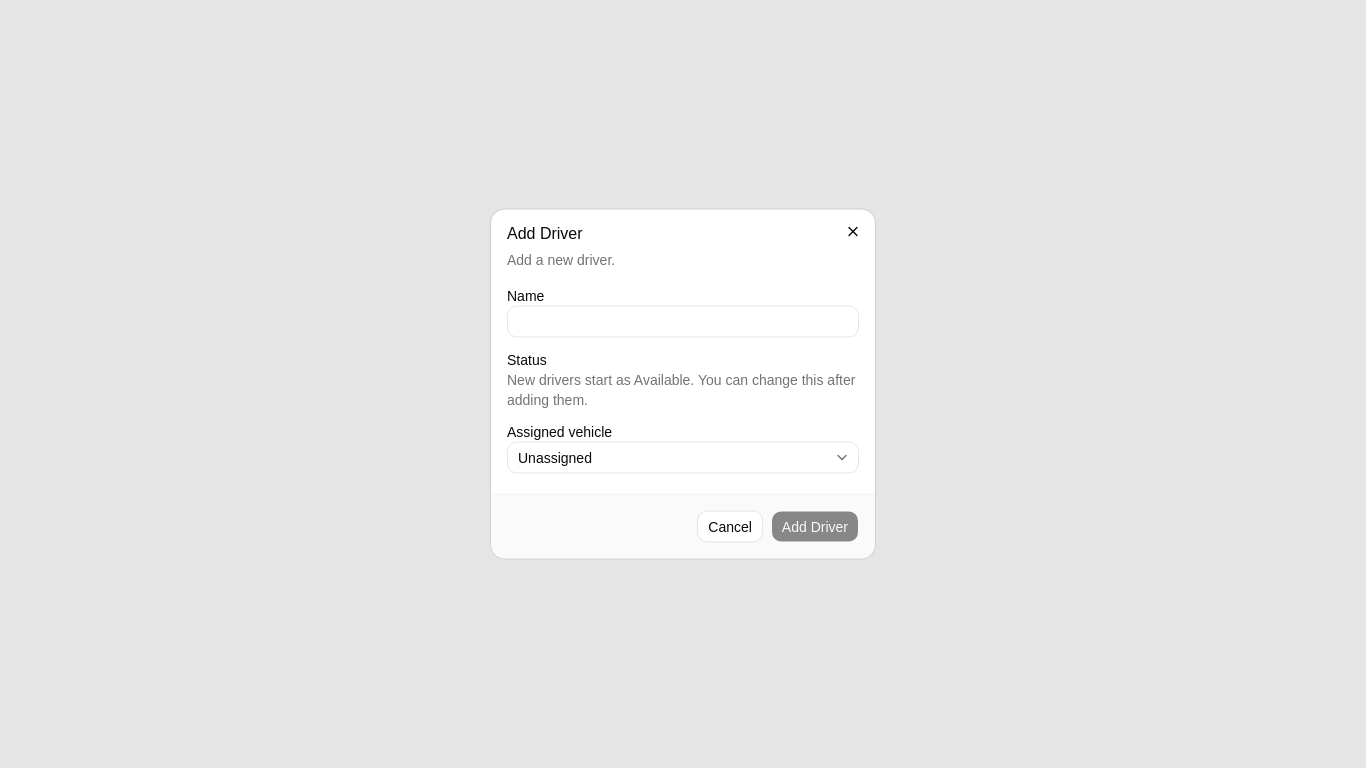
DriverFormDialog › does not require a vehicle to be assigned
This screenshot has width=1366, height=768.
Step 1. Type "New Driver" into the field labelled "Name" → (683, 322), box left=507, top=306, right=859, bottom=338
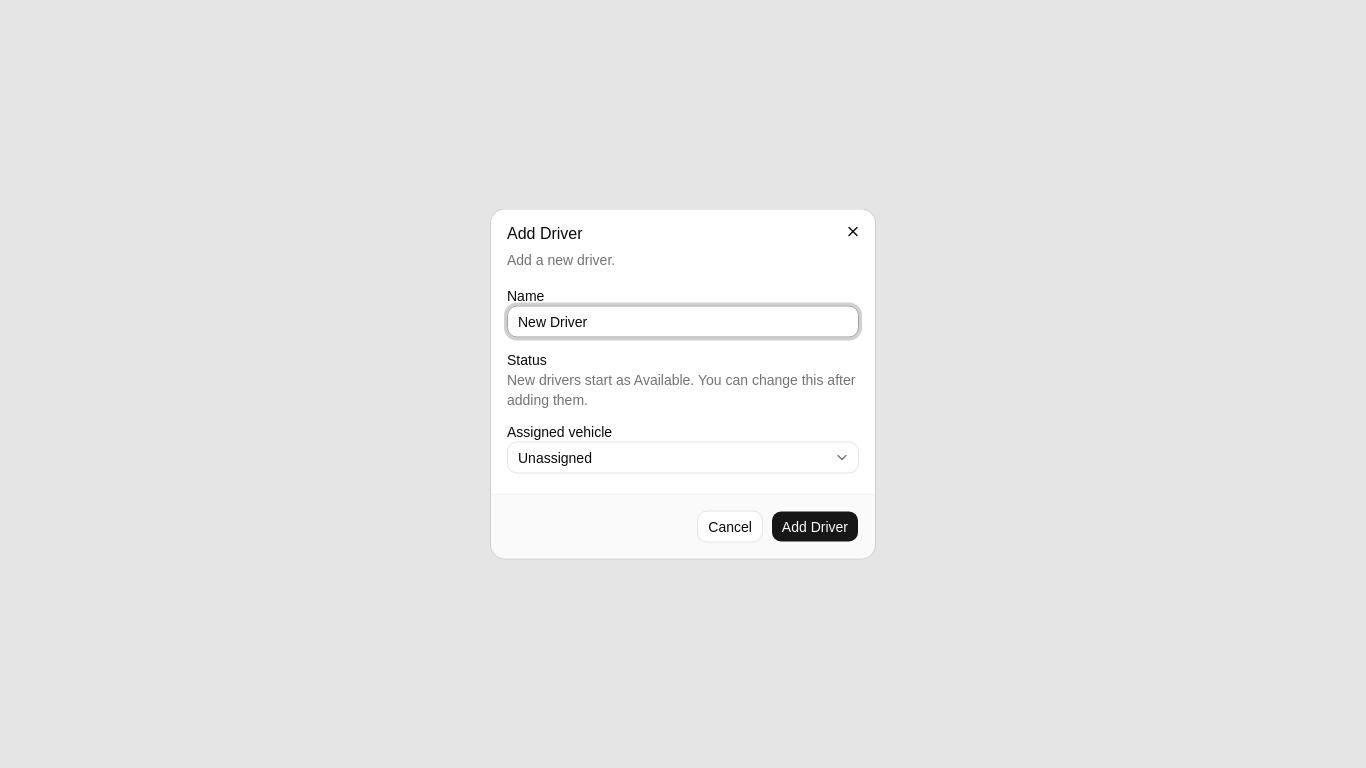
Check: the button "Add Driver" is enabled, box left=771, top=510, right=859, bottom=542
